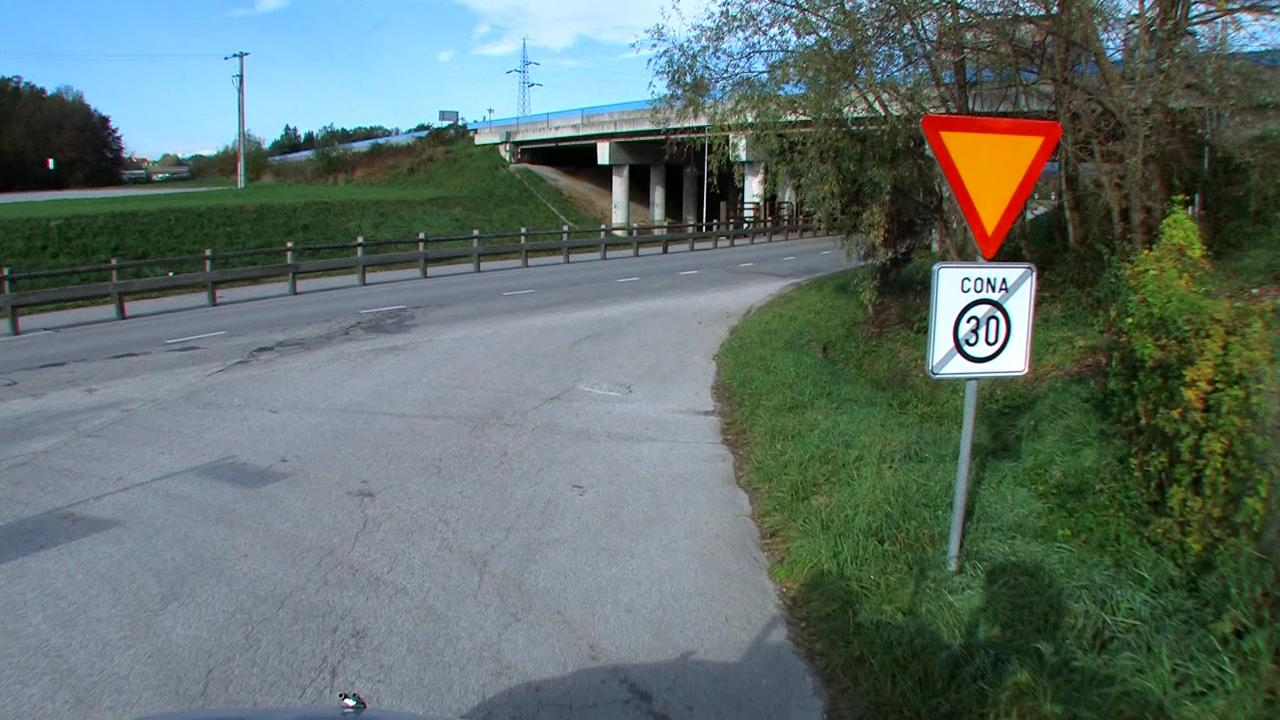Rectangle: (929, 261, 1039, 382)
Triangle: (917, 109, 1065, 259)
